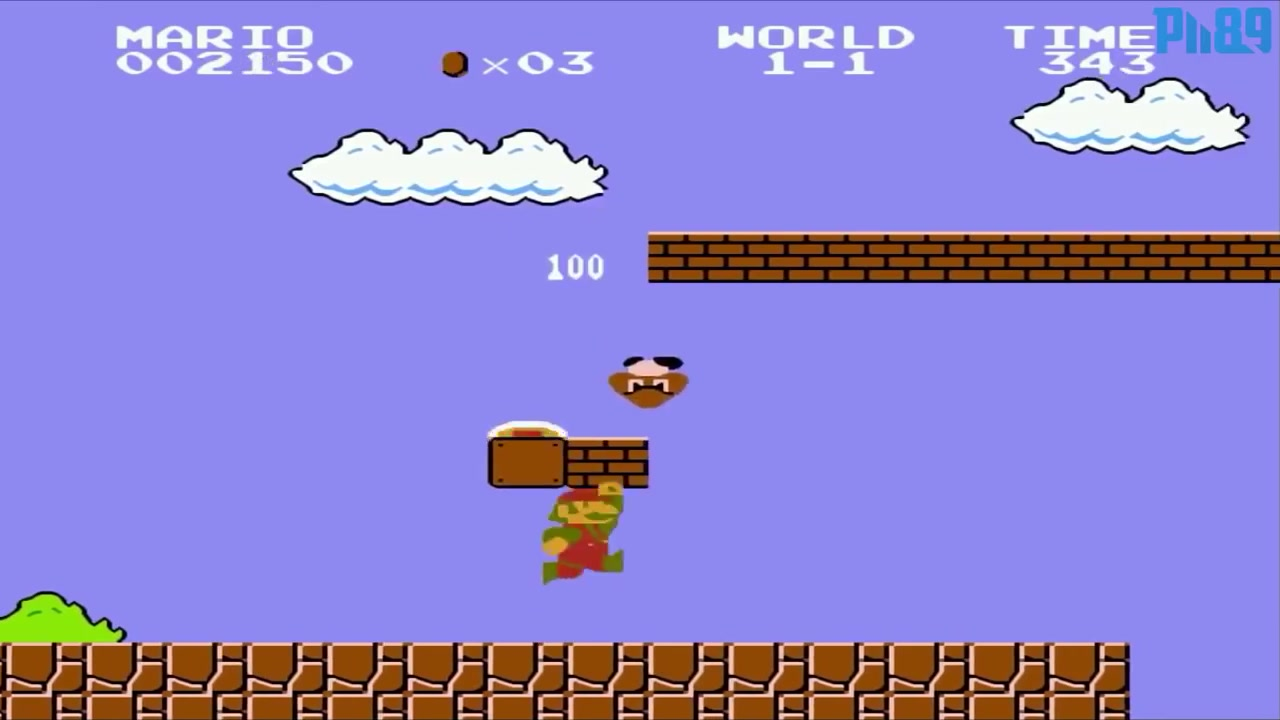mario: (542, 480, 633, 590)
